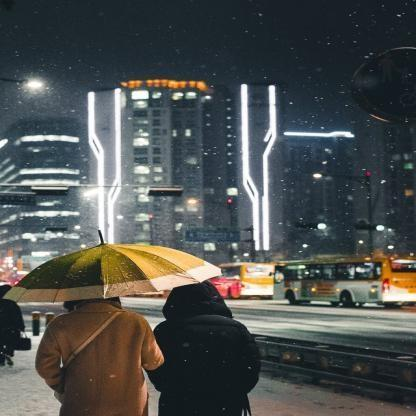Umbrella: (0, 228, 235, 320)
